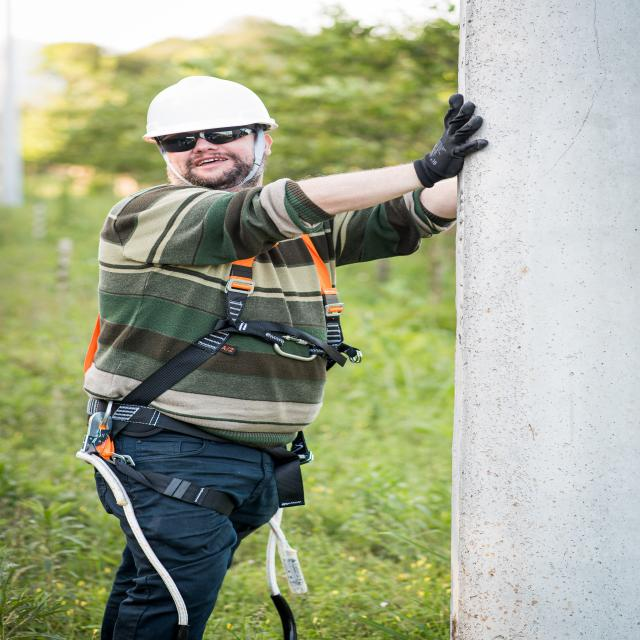capacete: (138, 73, 282, 145)
corda de vida: (76, 188, 369, 541)
luva: (412, 93, 492, 189)
